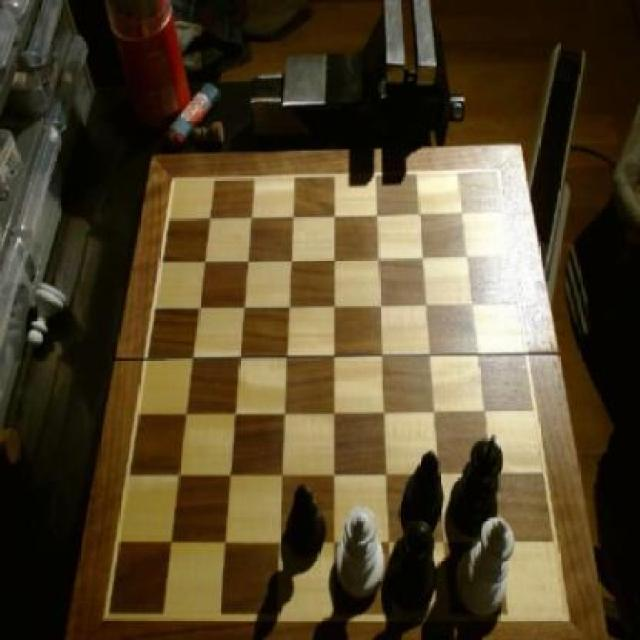bishop: (402, 454, 446, 538), (285, 485, 330, 557)
black-bishop: (449, 431, 505, 547)
black-pawn: (392, 518, 437, 614)
white-bishop: (457, 517, 520, 621)
white-pawn: (338, 506, 386, 597)
